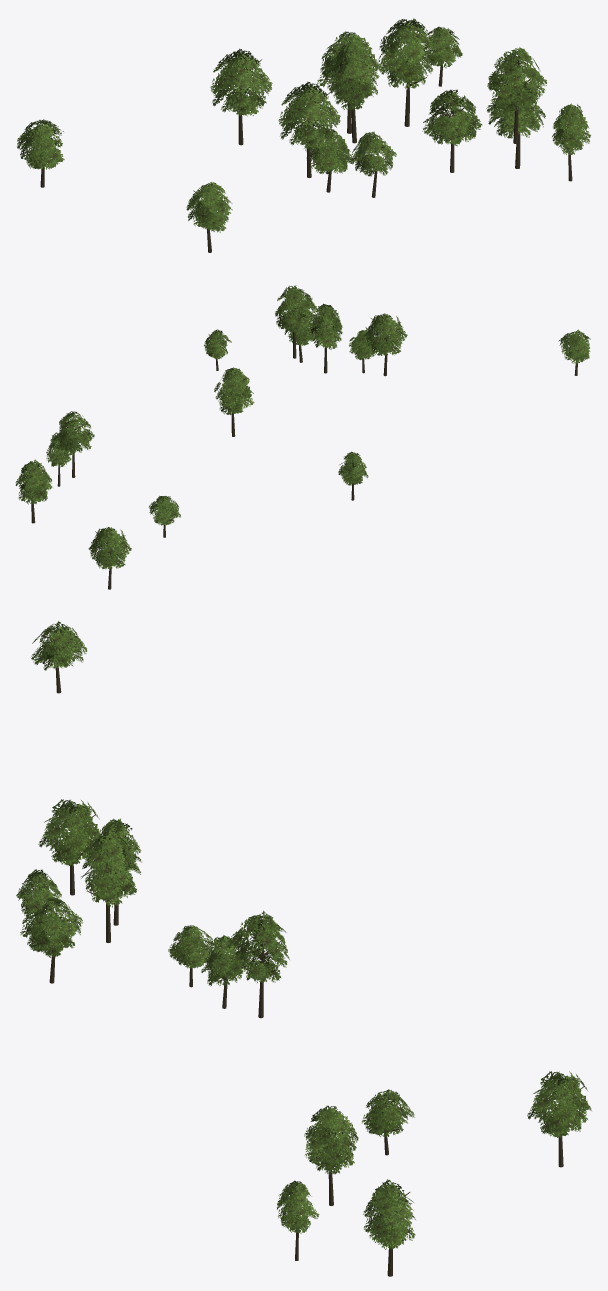
File: TRB8-FOREST-CHUNK-2-1.glb
The picture shows the model from 3 angles, top to bottom: view 1: azimuth 30°, elevation 25°; view 2: azimuth 150°, elevation 25°; view 3: azimuth 270°, elevation 25°; orthographic projection. The views are drawn at different scales.
Visible parts, largest first — view 1: TRB8-FOREST-CHUNK-2-1; view 2: TRB8-FOREST-CHUNK-2-1; view 3: TRB8-FOREST-CHUNK-2-1.
Part boxes in pixels (<box>): TRB8-FOREST-CHUNK-2-1: <box>17,18,590,252</box>; TRB8-FOREST-CHUNK-2-1: <box>15,285,590,589</box>; TRB8-FOREST-CHUNK-2-1: <box>16,621,591,1276</box>.
Size of the model in its own units: 40.71 by 18.23 by 28.77.
2 materials, 1 textured.
